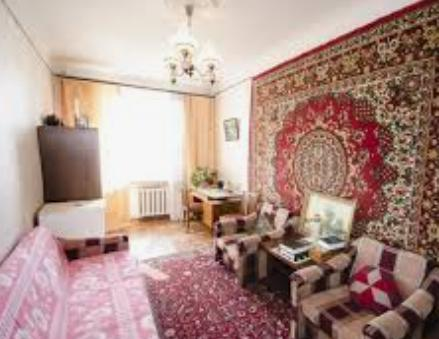carpet: (252, 0, 439, 261), (147, 255, 288, 339)
